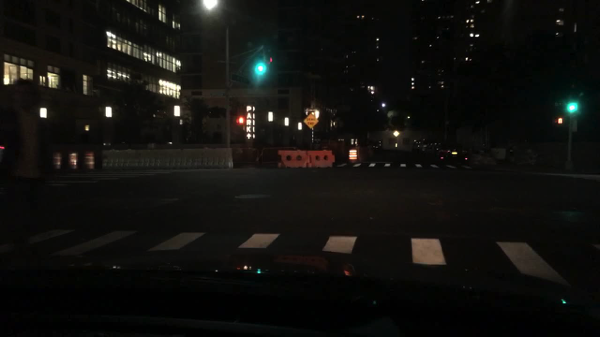car: (435, 141, 469, 166), (427, 142, 438, 157), (419, 141, 429, 152), (415, 140, 424, 151), (372, 140, 381, 150), (411, 139, 418, 150)
person: (0, 78, 57, 273)
traffic light: (264, 52, 272, 74), (256, 53, 264, 74), (569, 97, 575, 114), (554, 115, 564, 125), (235, 116, 243, 125)
traffic sign: (228, 72, 251, 89), (302, 115, 318, 130), (304, 108, 316, 112)
